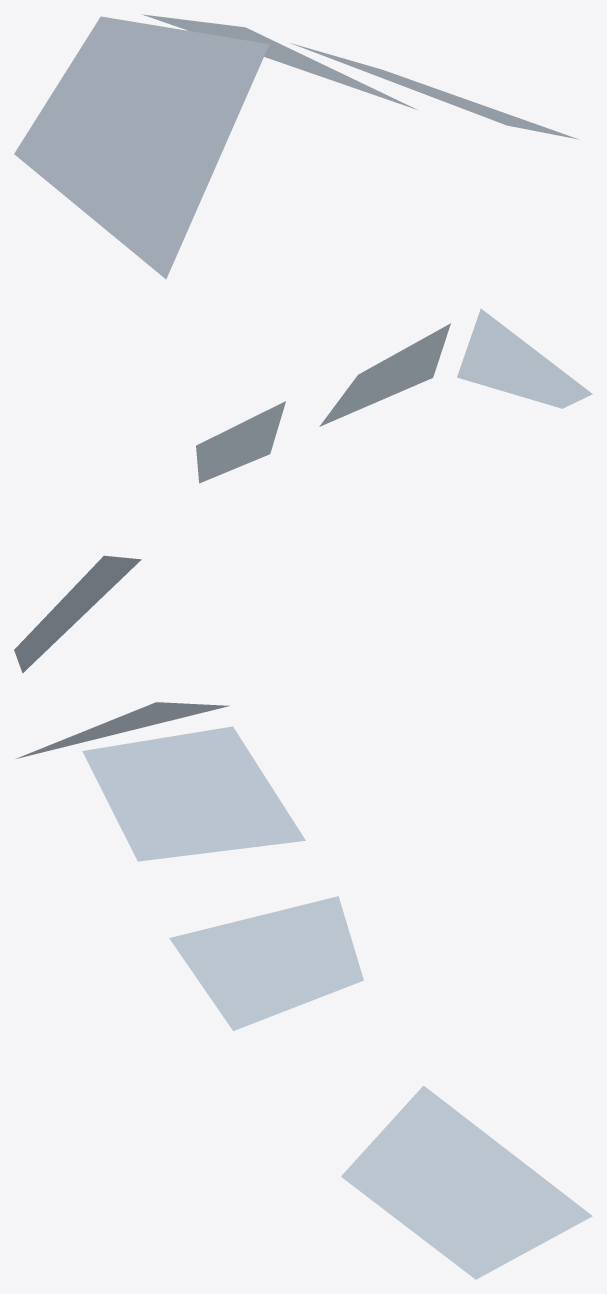
The model's file is plantar-metatarsal-ligaments-l.glb.
3 renders of one model, top to bottom at view 1: azimuth 30°, elevation 25°; view 2: azimuth 150°, elevation 25°; view 3: azimuth 270°, elevation 25°, orthographic. The views are drawn at different scales.
Visible parts, largest first — view 1: Plantar metatarsal ligaments.l; view 2: Plantar metatarsal ligaments.l; view 3: Plantar metatarsal ligaments.l.
Boxes of the visible parts, bbox=[...] form: Plantar metatarsal ligaments.l: bbox=[14, 14, 578, 279]; Plantar metatarsal ligaments.l: bbox=[14, 308, 592, 673]; Plantar metatarsal ligaments.l: bbox=[16, 702, 592, 1279].
Size of the model in its own units: 0.0245 by 0.0169 by 0.0231.
